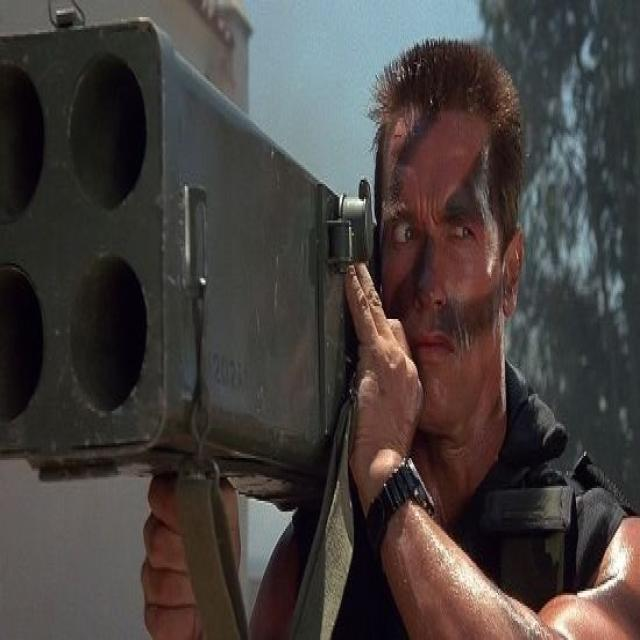bazooka: (1, 1, 416, 549)
